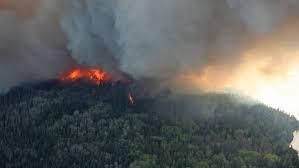fire: (60, 68, 105, 83)
smoke: (1, 1, 297, 93)
